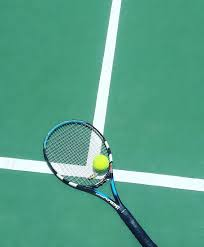tennis_ball: (92, 154, 109, 172)
